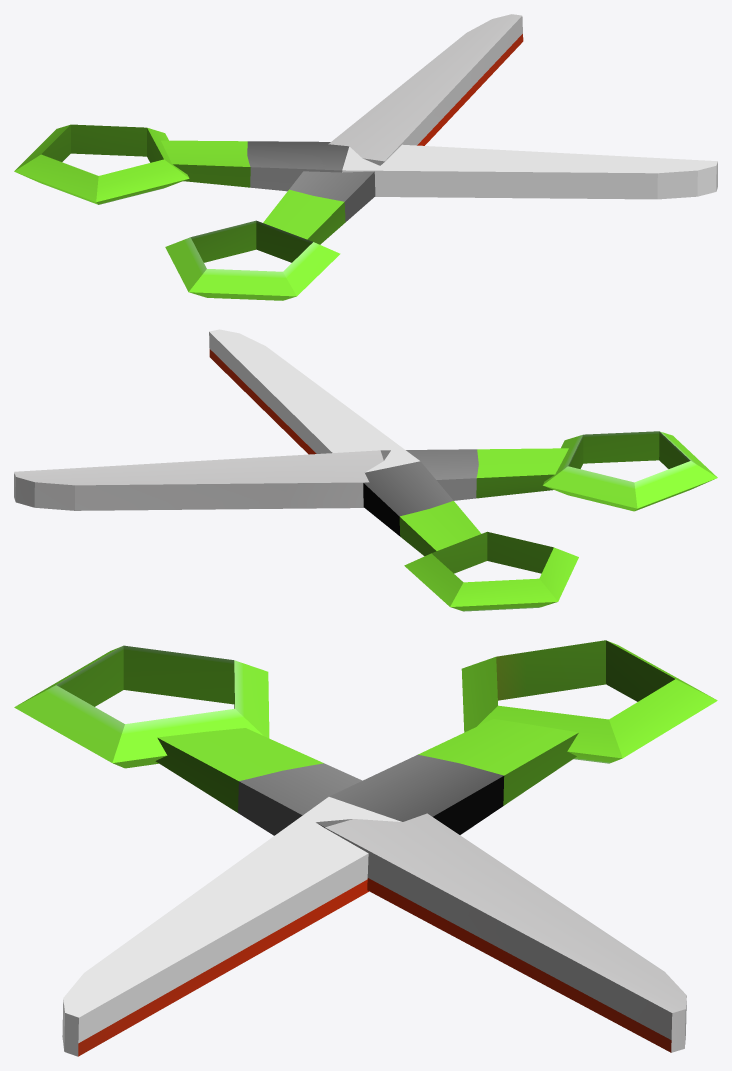
File: tijera2.fbx
3 renders of one model, top to bottom at view 1: azimuth 30°, elevation 25°; view 2: azimuth 150°, elevation 25°; view 3: azimuth 270°, elevation 25°, orthographic. The views are drawn at different scales.
Visible parts, largest first — view 1: Torus.001, Torus; view 2: Torus, Torus.001; view 3: Torus.001, Torus.
Part boxes in pixels (x1,y1,x2,y2): Torus.001: (14,124,717,204); Torus: (165,14,523,300); Torus: (14,431,717,511); Torus.001: (209,329,578,611); Torus.001: (62,640,717,1056); Torus: (14,645,686,1052).
Bounding box in the file's own units: 329 × 17.84 × 250.
